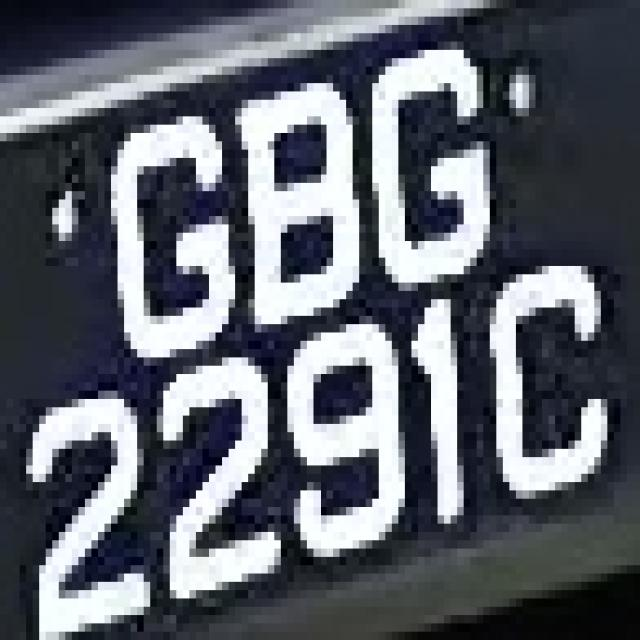1: (385, 232, 464, 574)
2: (118, 324, 288, 615), (0, 5, 2, 8)
9: (268, 291, 418, 573)
B: (203, 50, 359, 349)
C: (464, 241, 600, 532)
G: (85, 67, 242, 390), (346, 50, 503, 299)
